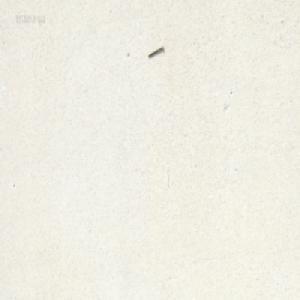Bolt: (147, 46, 164, 58)
